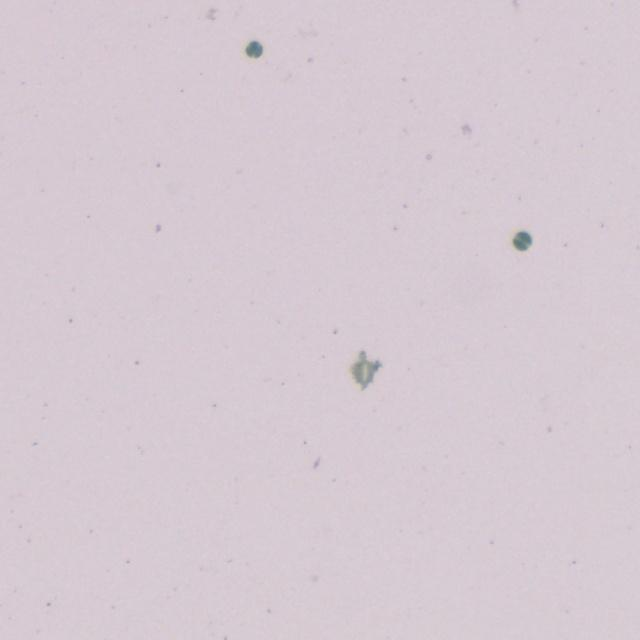non_viable: (512, 231, 531, 251), (245, 40, 263, 58)
